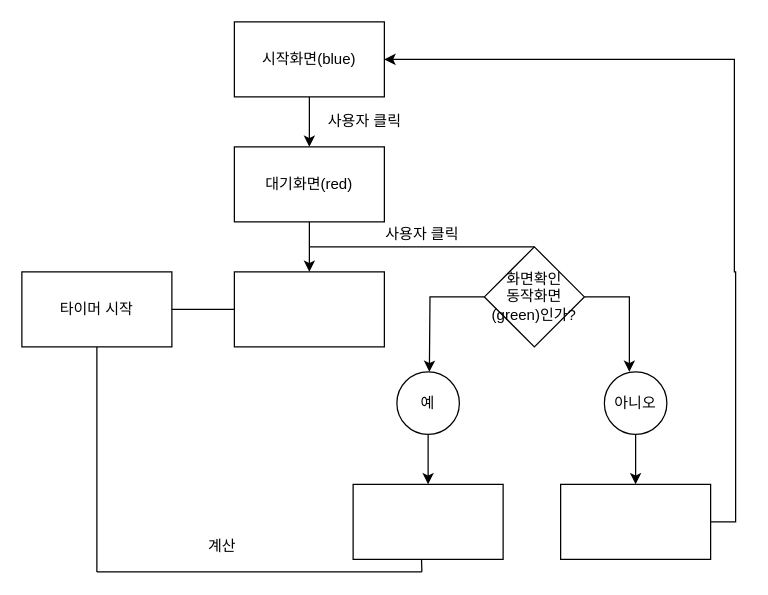
The diagram is 768 pixels wide and 595 high, and some of its shapes have lost their labels. The shapes that lost their labels are listed below. From the top down, each one's centre as x and y in pixels, then its label:
(308,309): 동작화면(green)
(427,521): 타이머 종료/성공 시간 표시
(635,521): 타이머 종료/실패
